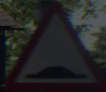Speed Breaker ahead: (9, 14, 91, 82)
